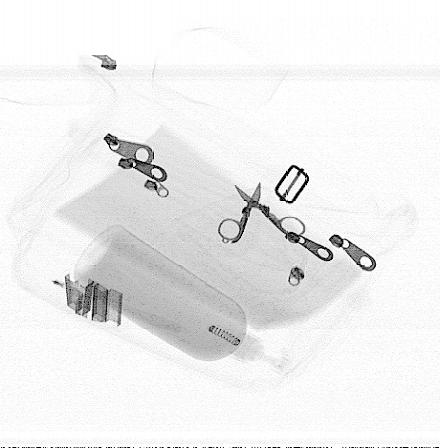Scissors: (217, 181, 306, 245)
